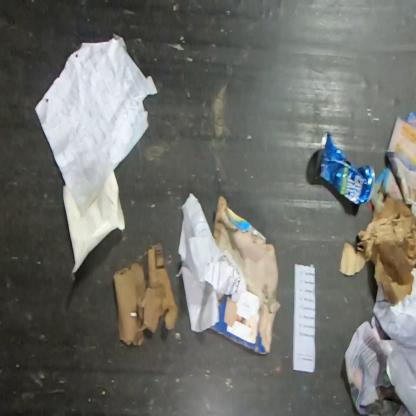cardboard: (208, 195, 282, 355), (339, 195, 415, 305)
metal: (315, 130, 376, 206)
soft_plastic: (385, 344, 415, 415)
